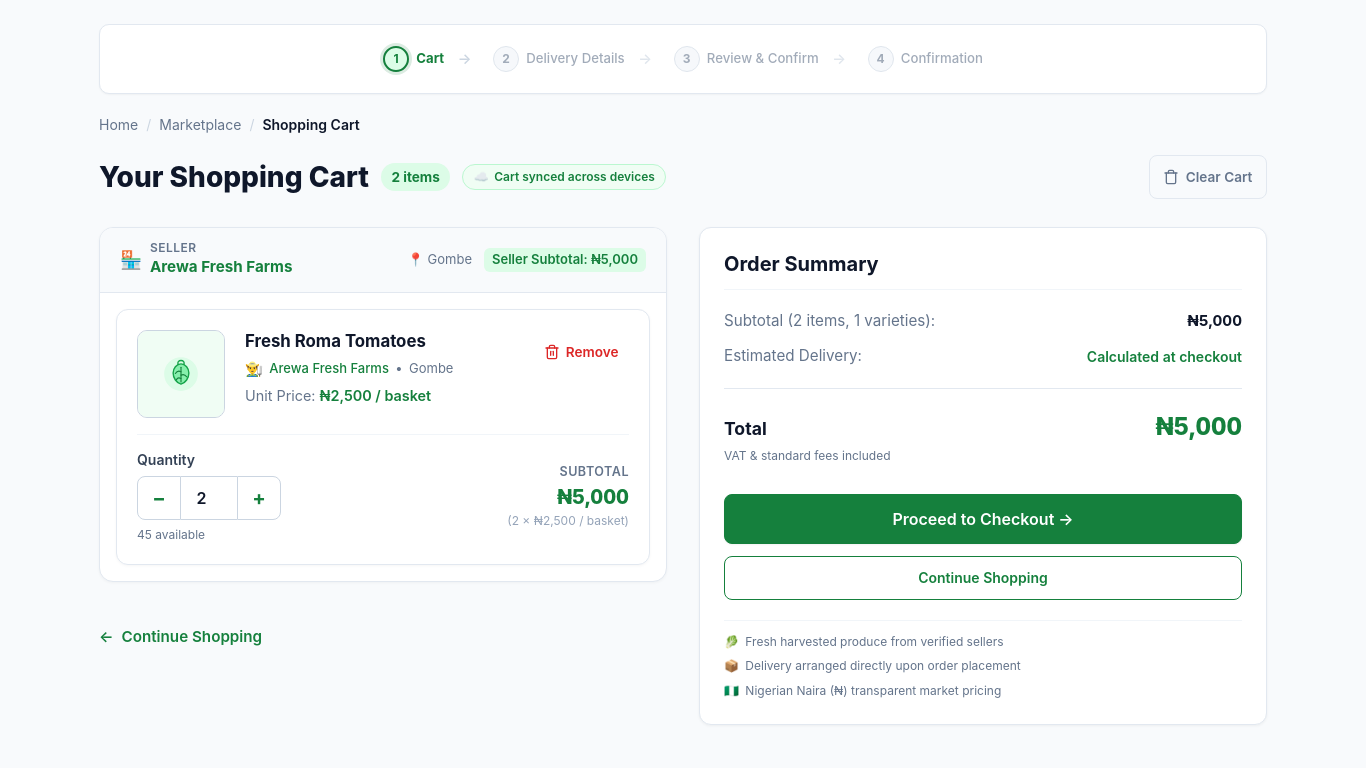
Server-side Cart Sync & Device Persistence (FE-061 / CART-10) › CartContext & Cart Page Integration with Server Sync › clears server cart when authenticated buyer clears their cart
Expected: the link "Fresh Roma Tomatoes" is shown, [245, 331, 426, 351]
Click clear cart
Click the button with test id "clear-cart-button" at (1208, 177), box [1149, 155, 1267, 199]
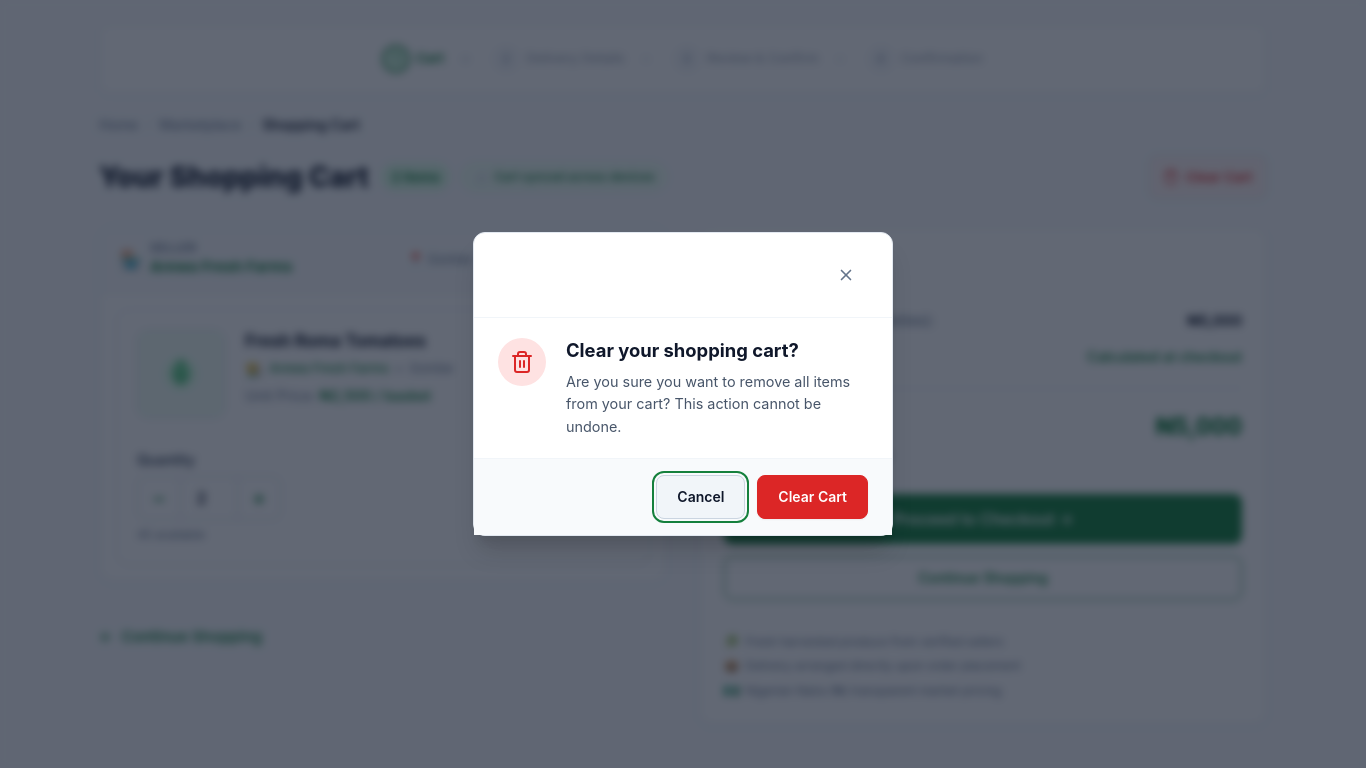
Click the button "Clear Cart" at (813, 497), box [757, 475, 868, 519]
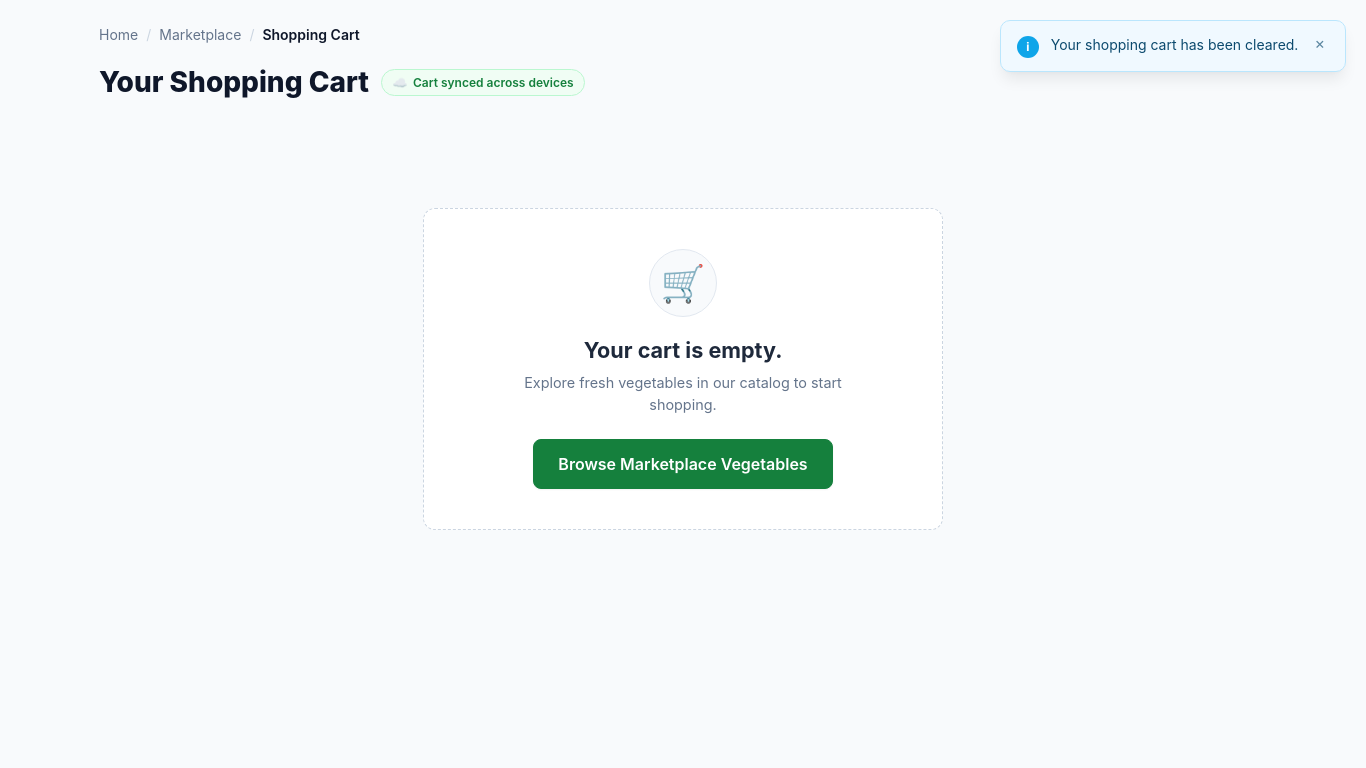
Expected: the element with test id "empty-cart-state" is shown, [423, 208, 943, 530]
